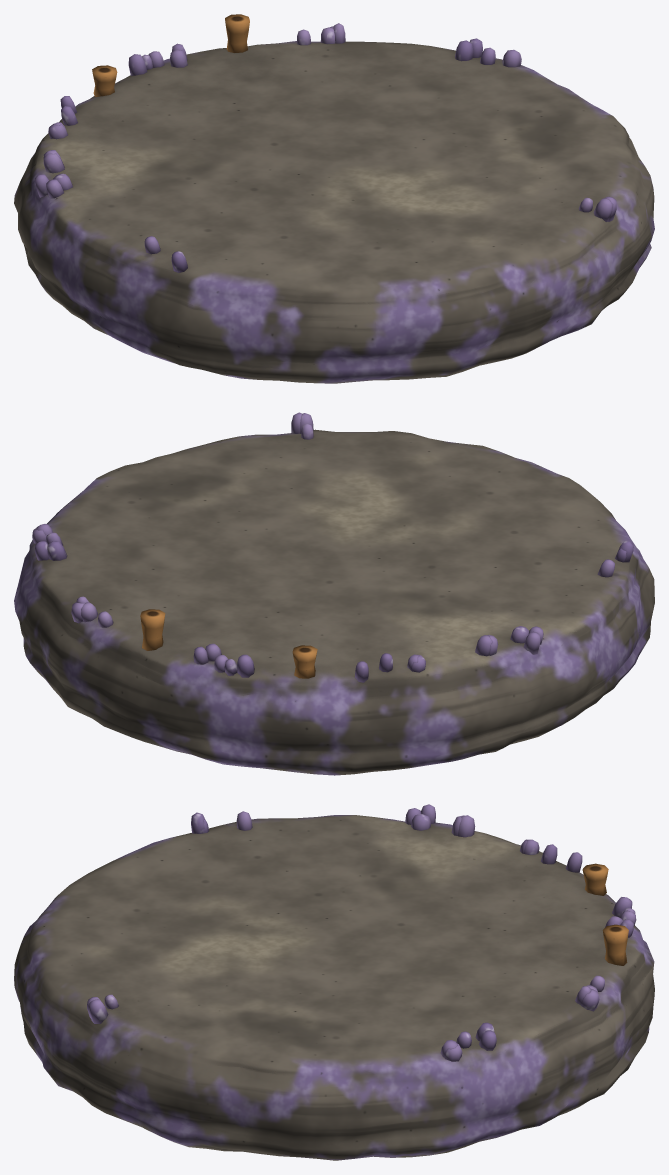
The model's file is aquatic_plinth.glb.
The picture shows the model from 3 angles, top to bottom: view 1: azimuth 30°, elevation 25°; view 2: azimuth 150°, elevation 25°; view 3: azimuth 270°, elevation 25°; orthographic projection.
Visible parts, largest first — view 1: AquaticPlinth; view 2: AquaticPlinth; view 3: AquaticPlinth.
Boxes of the visible parts, x1,y1,x2,y2 form: AquaticPlinth: (14, 14, 654, 383); AquaticPlinth: (14, 412, 654, 775); AquaticPlinth: (14, 804, 654, 1160).
Size of the model in its own units: 1.96 by 0.4524 by 1.96.
Materials: 1 (1 with a texture image).
